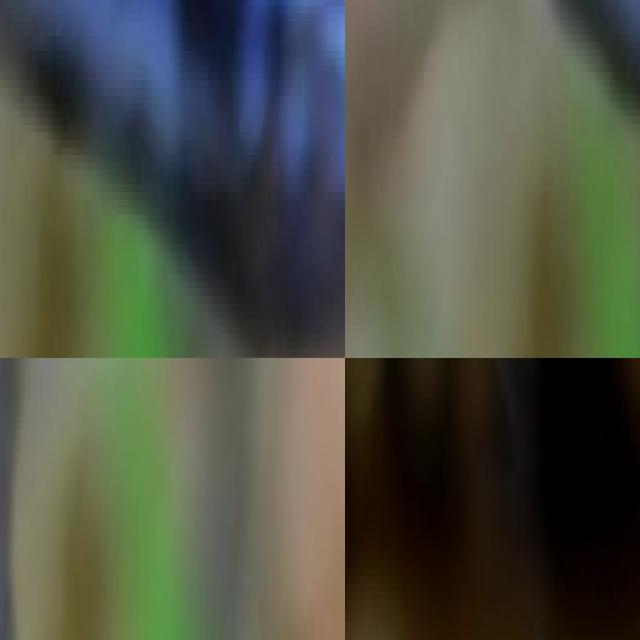fish: (0, 0, 345, 358), (385, 0, 640, 358)
